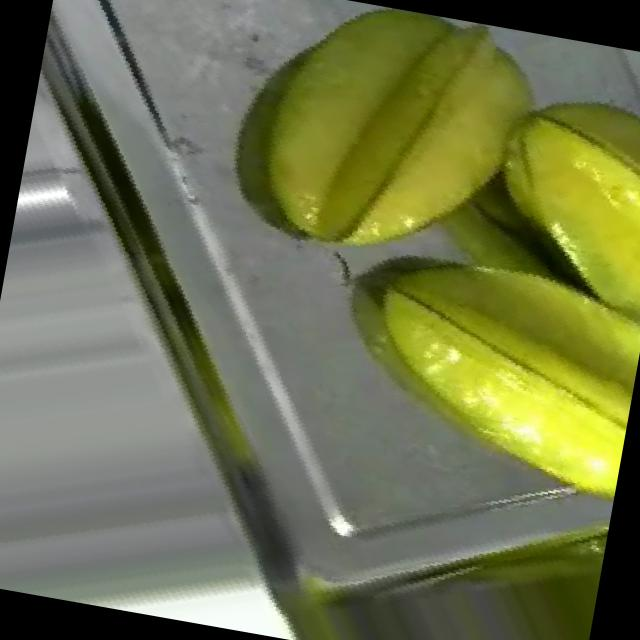fruit: (170, 0, 588, 346), (307, 187, 640, 547), (440, 33, 640, 344)
